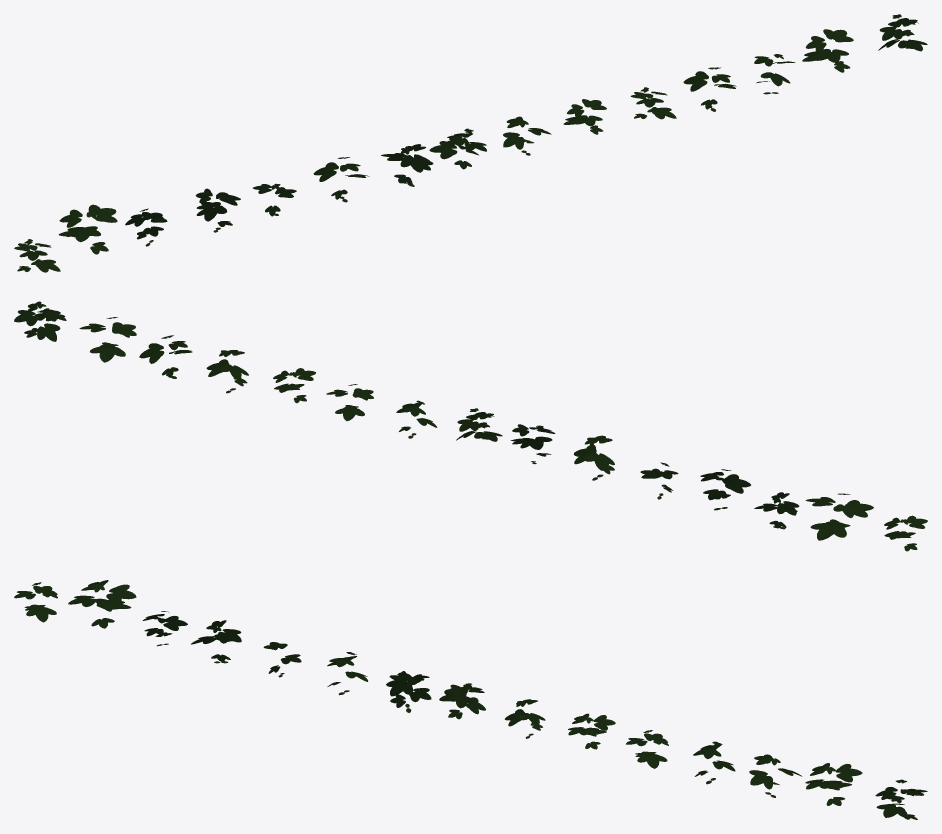
Rendered from ROW_16_SEG0_foliage.dae.
3 renders of one model, top to bottom at view 1: azimuth 30°, elevation 25°; view 2: azimuth 150°, elevation 25°; view 3: azimuth 330°, elevation 25°, orthographic.
Parts seen in each view (by area): view 1: ROW_16_SEG0_foliage; view 2: ROW_16_SEG0_foliage; view 3: ROW_16_SEG0_foliage.
Boxes of the visible parts, x1,y1,x2,y2 form: ROW_16_SEG0_foliage: [14, 14, 927, 272]; ROW_16_SEG0_foliage: [14, 301, 927, 551]; ROW_16_SEG0_foliage: [14, 580, 927, 819].
Bounding box in the file's own units: 4.48 × 0.3324 × 0.229.
